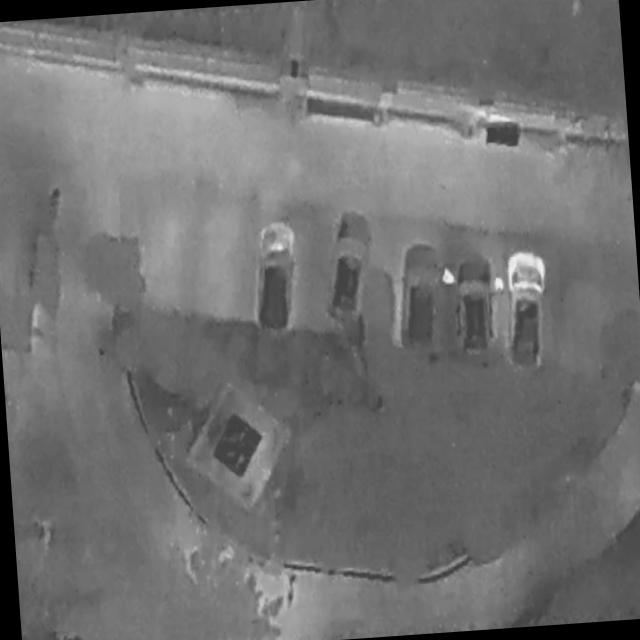person: (494, 274, 506, 294), (443, 269, 455, 286)
